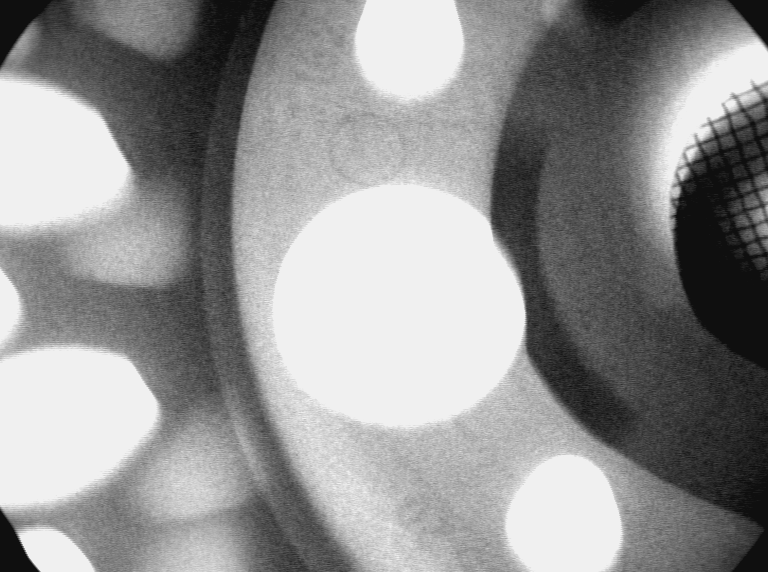defect: (542, 7, 599, 50)
